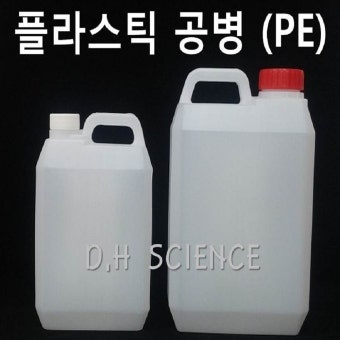plastic: (169, 67, 315, 337)
